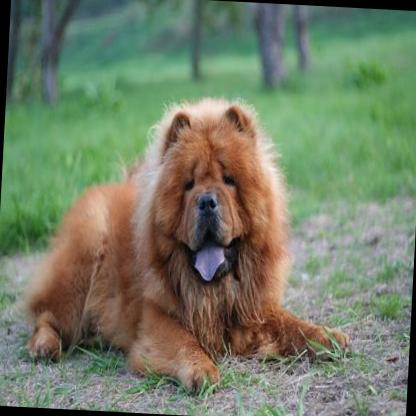chow: (11, 79, 365, 405)
